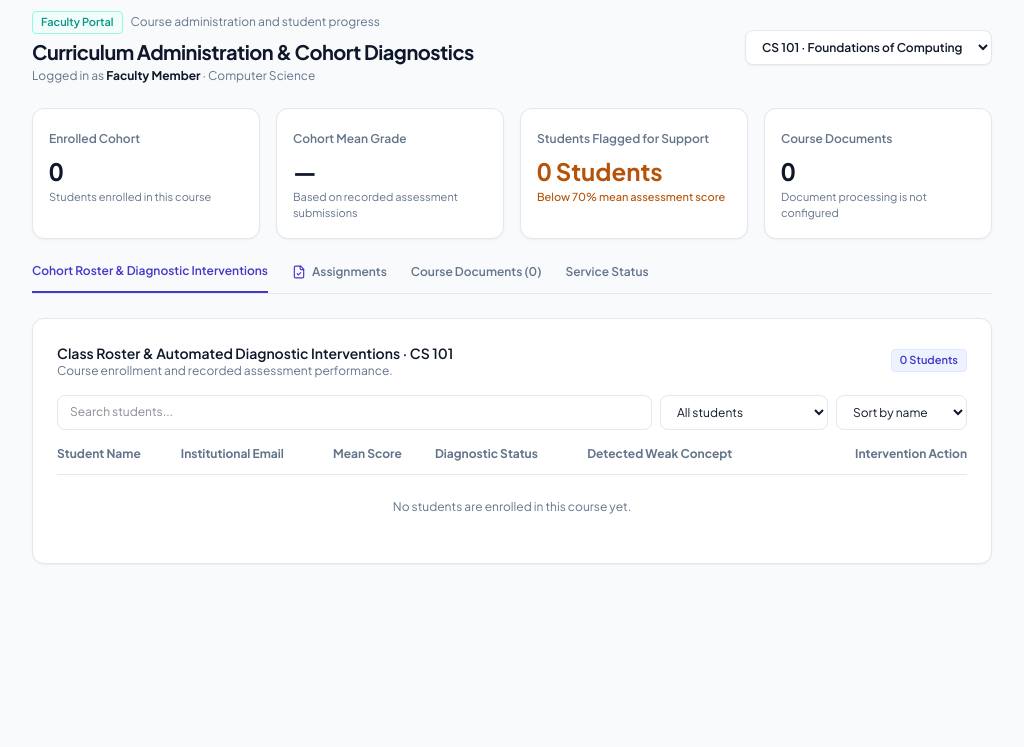
it: faculty assignments module › publishes a manual course assignment with its deadline and points
Click the button "Assignments".
click(339, 278)  # box x1=292 y1=264 x2=387 y2=292
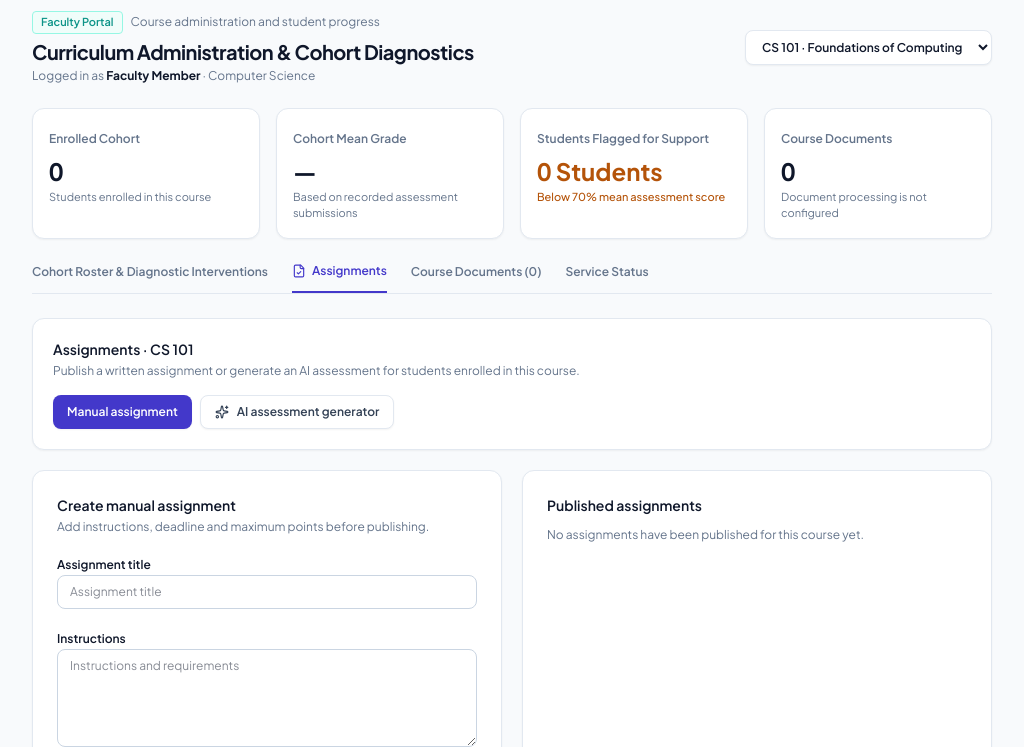
Type "Week 1 work" into the field labelled "Assignment title".
click(267, 592); type("Week 1 work")  # box x1=57 y1=574 x2=477 y2=608
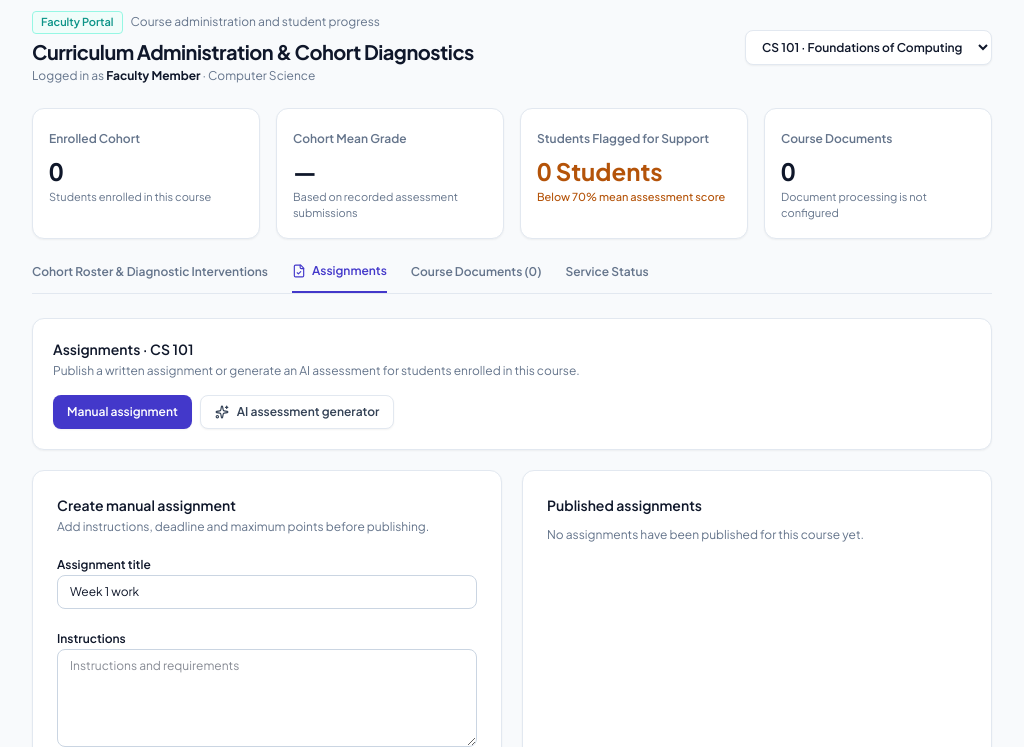
Type "Complete exercises 1–5." into the text box labelled "Instructions".
click(267, 698); type("Complete exercises 1–5.")  # box x1=57 y1=648 x2=477 y2=746
(page scrolled)
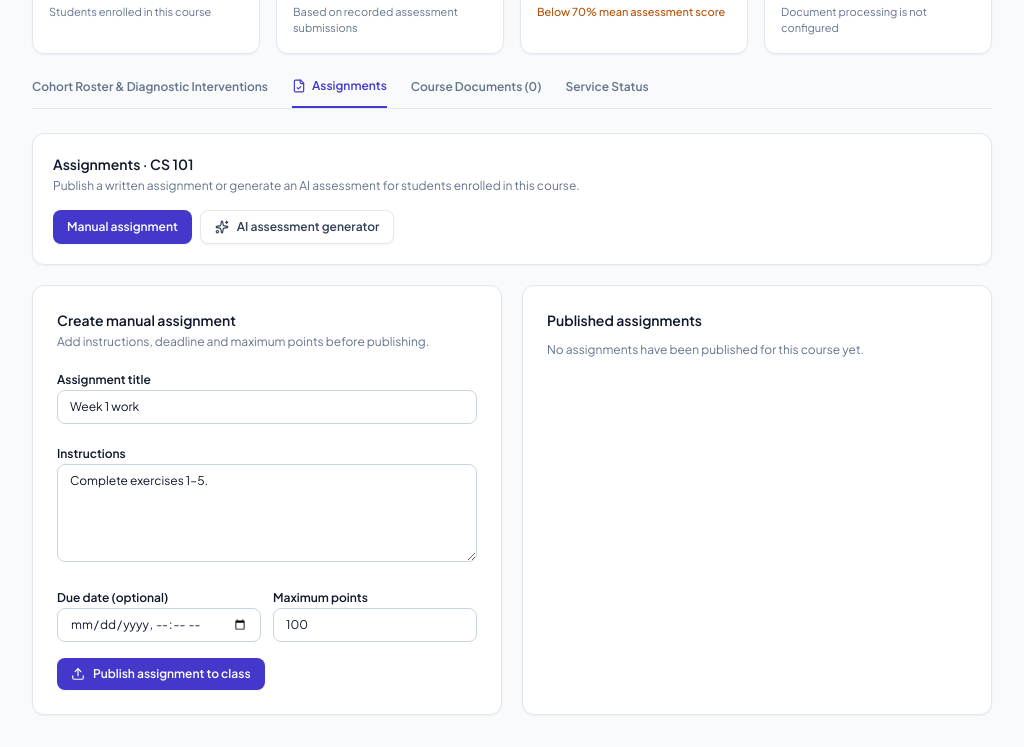
Type "2026-11-30T12:00" into the field labelled "Due date (optional)".
click(159, 624); type("2026-11-30T12:00")  # box x1=57 y1=608 x2=261 y2=642
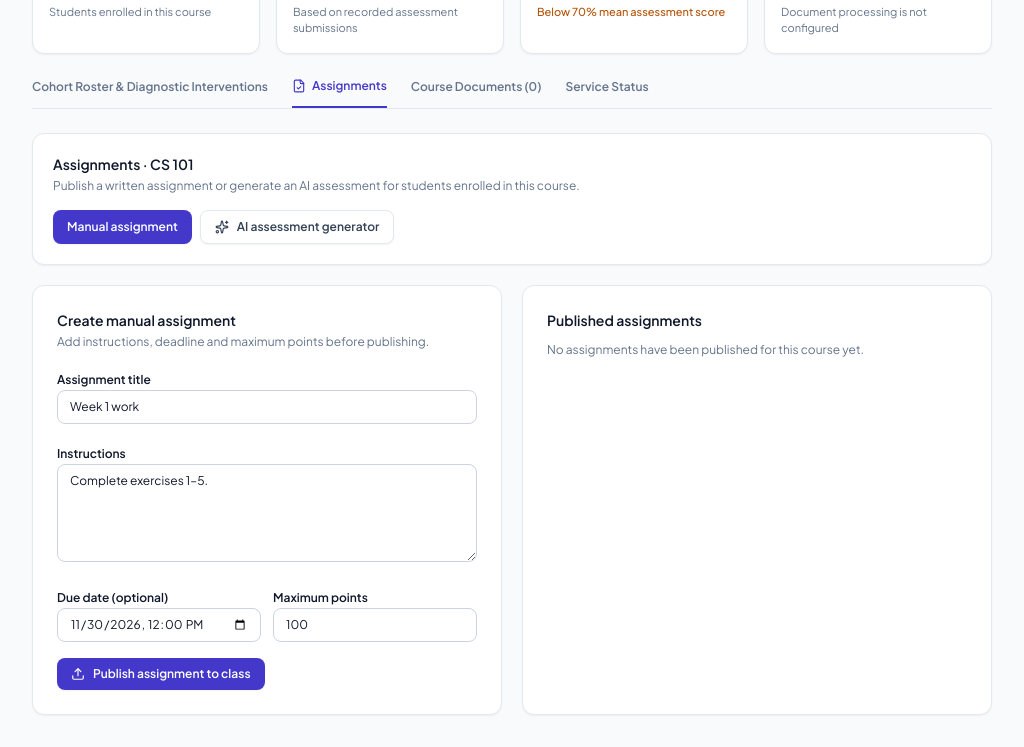
Replace the text in the number field labelled "Maximum points" with "25" at (375, 624), box x1=273 y1=608 x2=477 y2=642
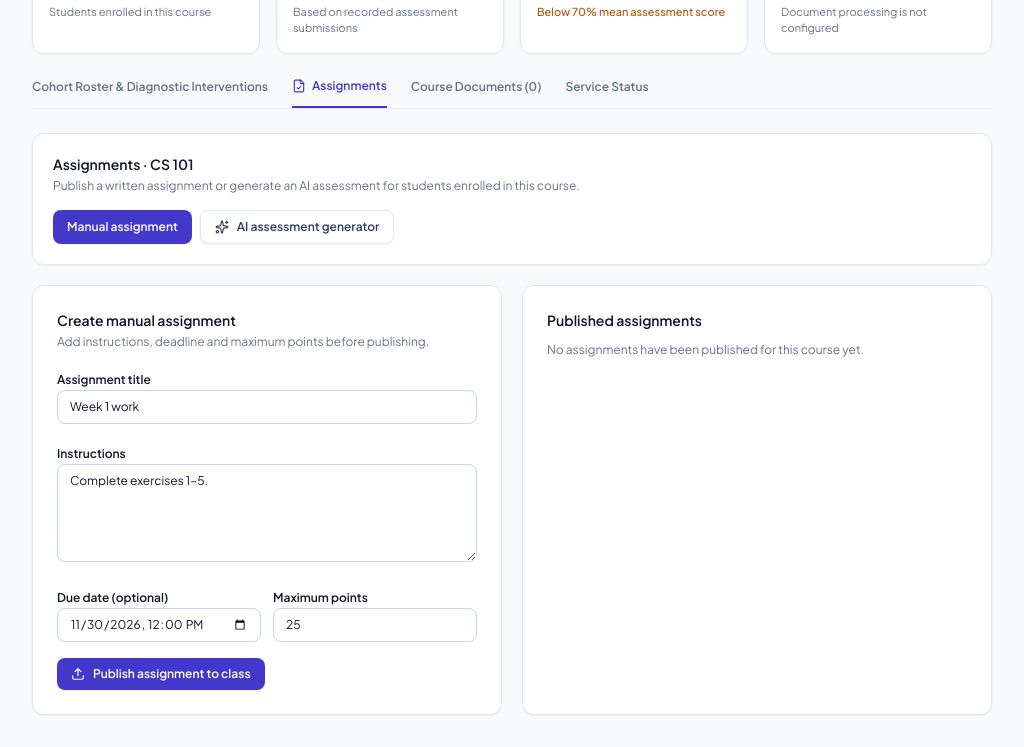
Click the button "Publish assignment to class".
click(161, 674)  # box x1=57 y1=658 x2=264 y2=690
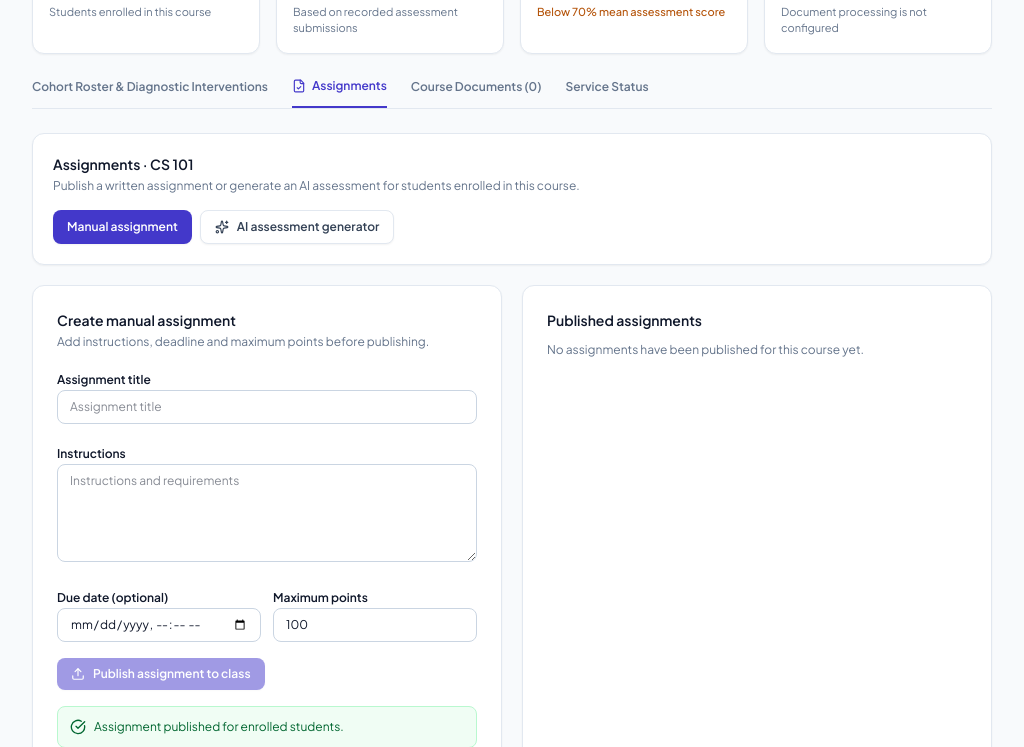
expect the message reads "Assignment published for enrolled students.": met, box x1=94 y1=718 x2=344 y2=734
